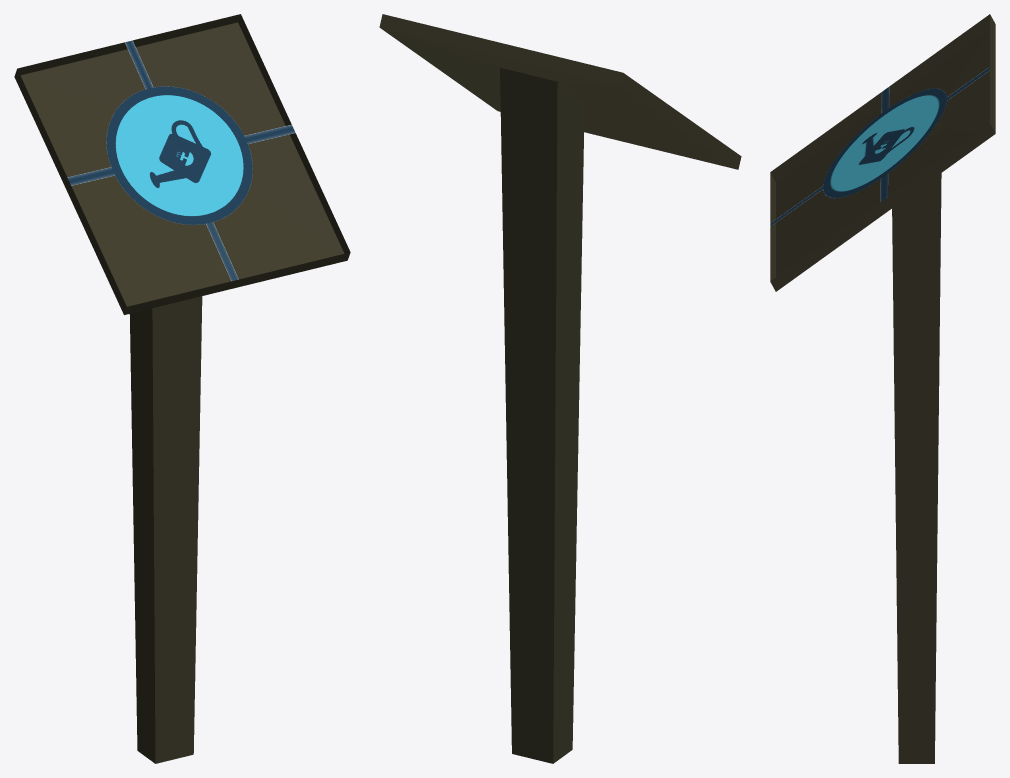
The model's file is cartel_regar.fbx.
The picture shows the model from 3 angles, left to right: view 1: azimuth 30°, elevation 25°; view 2: azimuth 150°, elevation 25°; view 3: azimuth 270°, elevation 25°; orthographic projection. The views are drawn at different scales.
Parts seen in each view (by area): view 1: Cube; view 2: Cube; view 3: Cube.
Part boxes in pixels (x1,y1,x2,y2): Cube: [14, 14, 350, 763]; Cube: [379, 14, 741, 763]; Cube: [770, 14, 995, 763].
Bounding box in the file's own units: 19.54 × 57.16 × 17.04.
